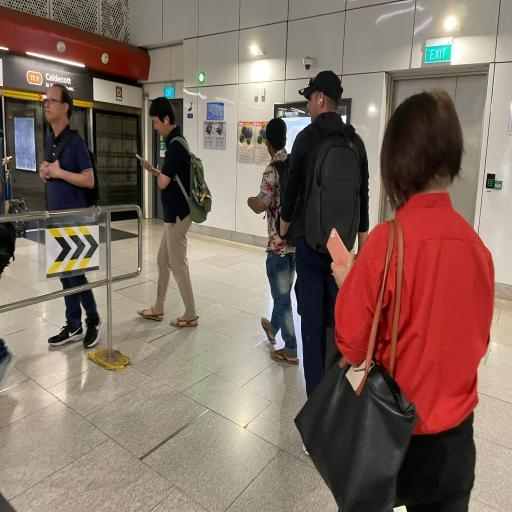person_left: (134, 92, 215, 340), (243, 114, 301, 372)
